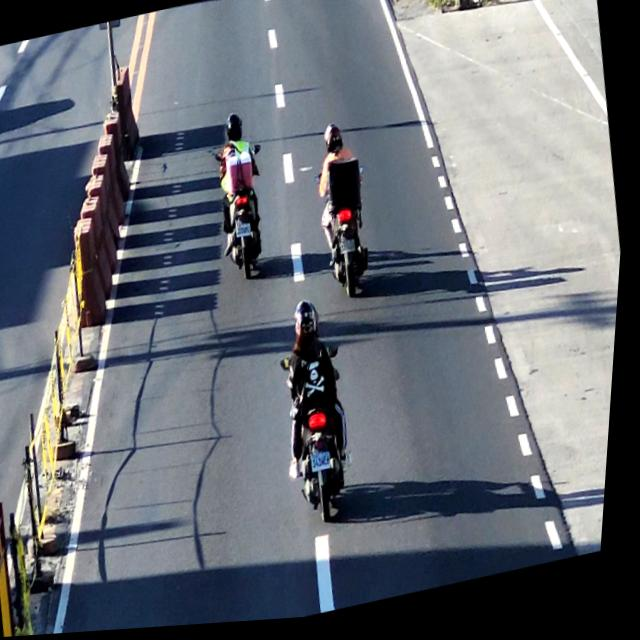License-Plate: (313, 451, 344, 483), (339, 242, 362, 260), (237, 224, 258, 242)
Motorcycle: (271, 297, 376, 532), (306, 114, 385, 311), (206, 112, 278, 290)
